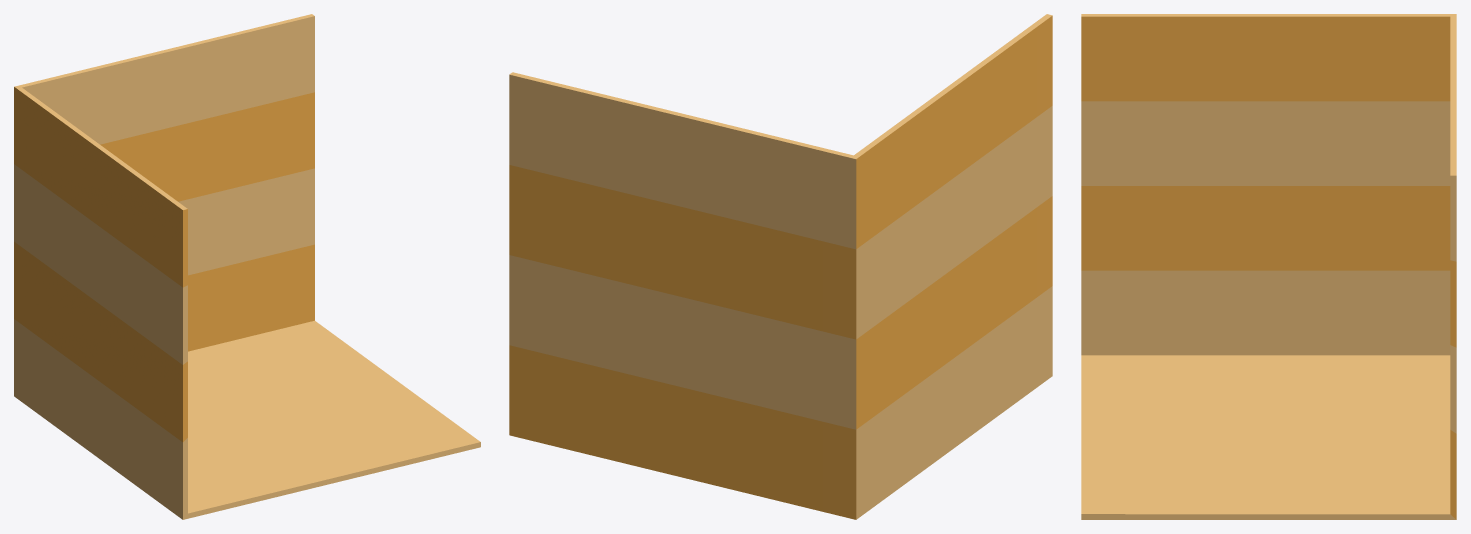
Rendered from Room1.fbx.
3 views of the same model, side by side, from view 1: azimuth 30°, elevation 25°; view 2: azimuth 150°, elevation 25°; view 3: azimuth 270°, elevation 25° (orthographic). The views are drawn at different scales.
Parts seen in each view (by area): view 1: Room1; view 2: Room1; view 3: Room1.
Boxes of the visible parts, box(x1,y1,x2,y2) form: Room1: box(14, 14, 480, 519); Room1: box(509, 14, 1052, 519); Room1: box(1081, 14, 1456, 519).
Size of the model in its own units: 253 by 252 by 249.
